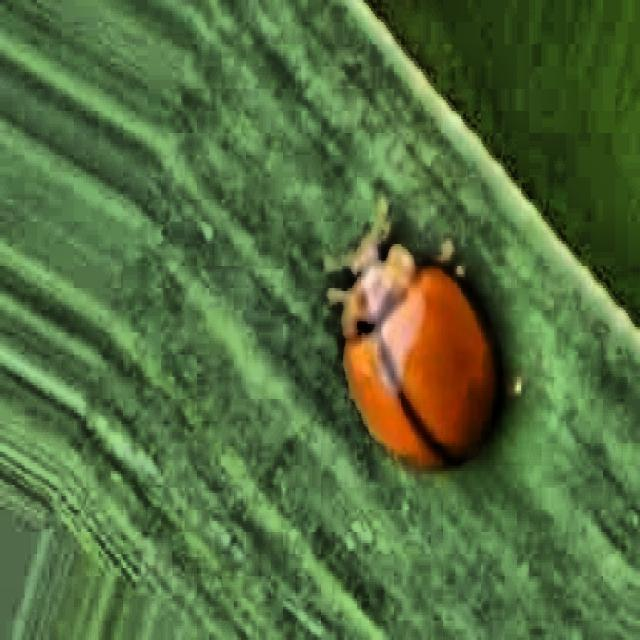Ladybug: (304, 183, 512, 488)
